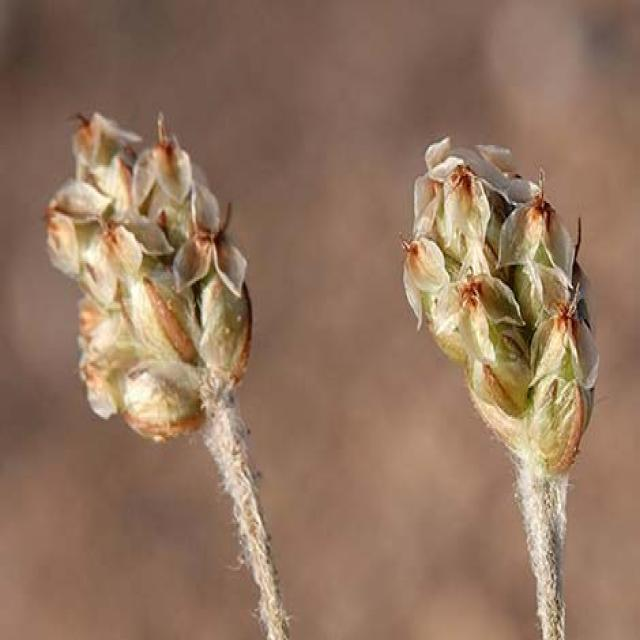Isabghul: (371, 146, 638, 561), (22, 102, 288, 492)
